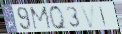3: (66, 5, 82, 28)
9: (16, 6, 32, 31)
I: (98, 5, 108, 28)
M: (29, 6, 54, 32)
Q: (48, 4, 69, 31)
V: (79, 3, 96, 29)
